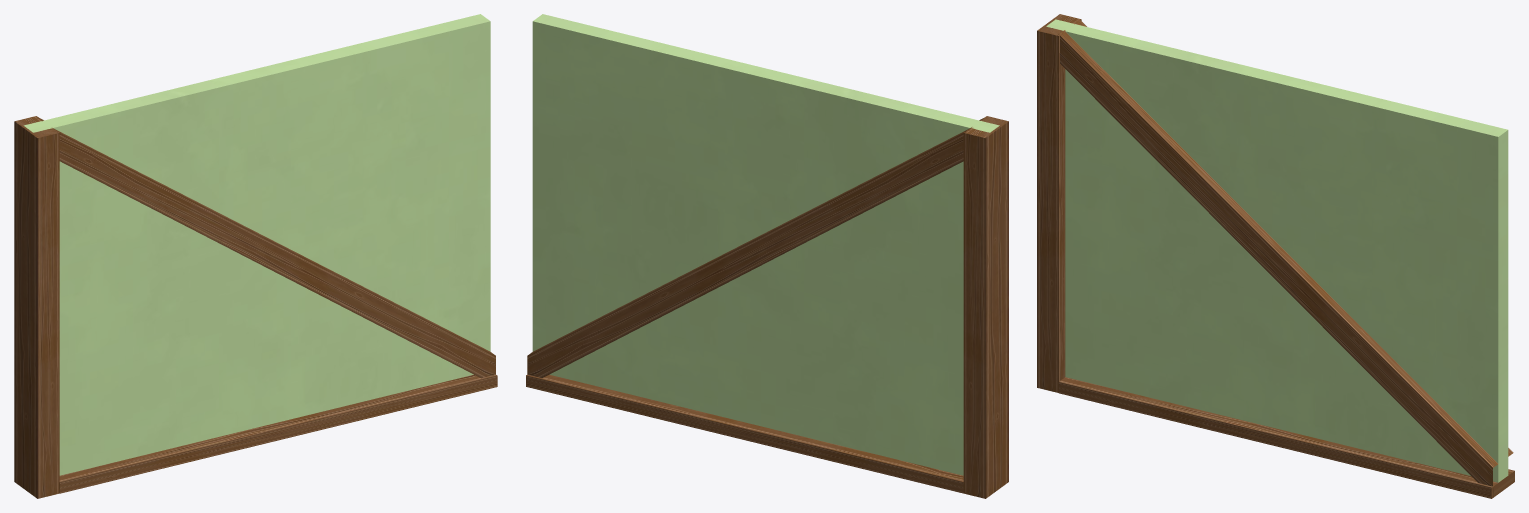
File: SM_Large_Wall_02_wmint.glb
The picture shows the model from 3 angles, left to right: view 1: azimuth 30°, elevation 25°; view 2: azimuth 150°, elevation 25°; view 3: azimuth 330°, elevation 25°; orthographic projection.
Parts seen in each view (by area): view 1: SM_Large_Wall_02; view 2: SM_Large_Wall_02; view 3: SM_Large_Wall_02.
Boxes of the visible parts, <box> form: SM_Large_Wall_02: <box>14,14,497,498</box>; SM_Large_Wall_02: <box>526,14,1008,498</box>; SM_Large_Wall_02: <box>1037,14,1514,498</box>.
Size of the model in its own units: 4 by 3.01 by 0.3524.
Materials: 2 (2 with a texture image).
